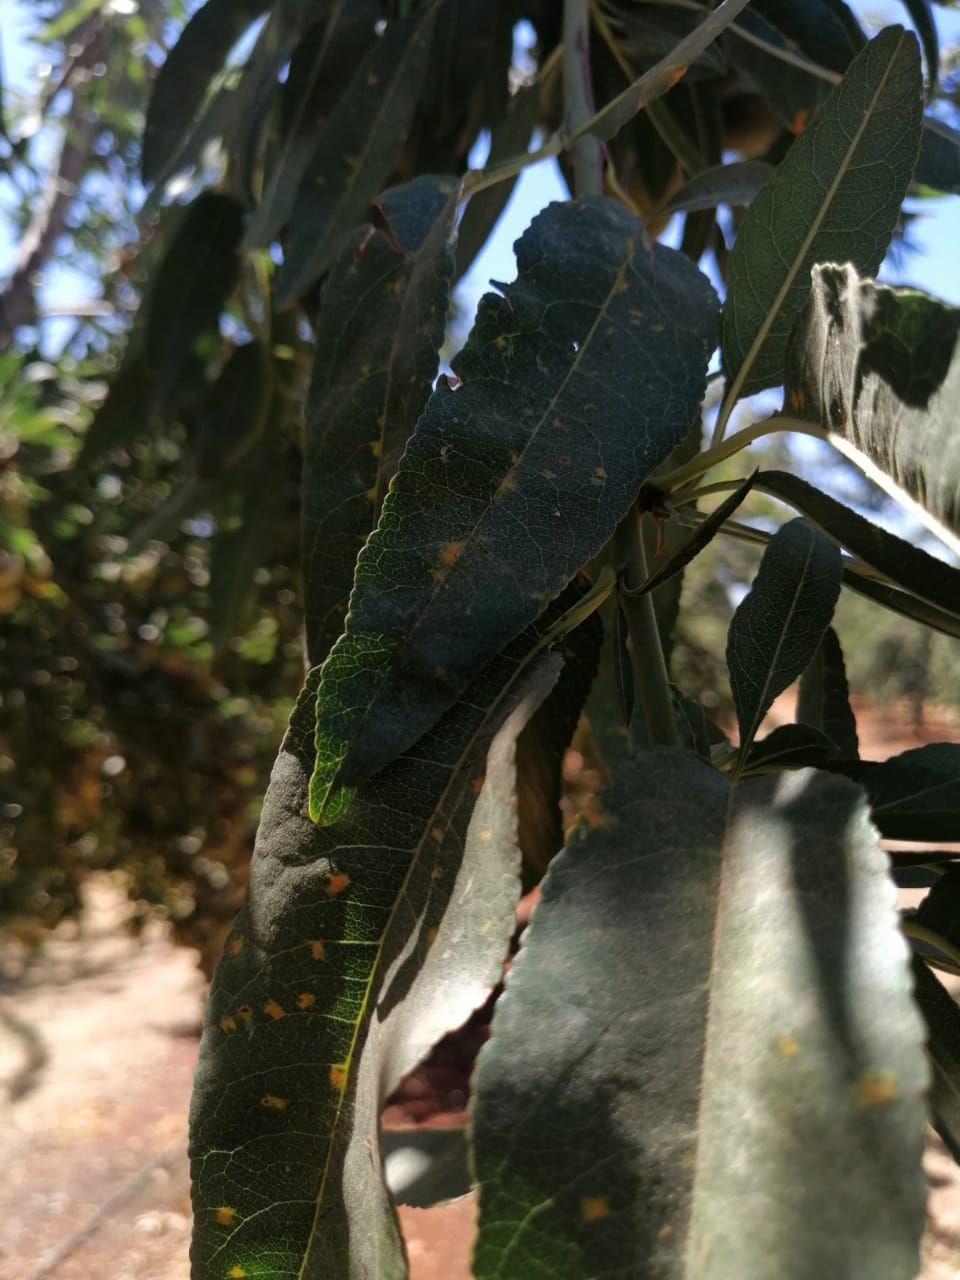polystigma: (307, 190, 725, 831), (184, 646, 565, 1280), (472, 764, 934, 1280), (305, 172, 469, 675), (779, 261, 960, 556)
